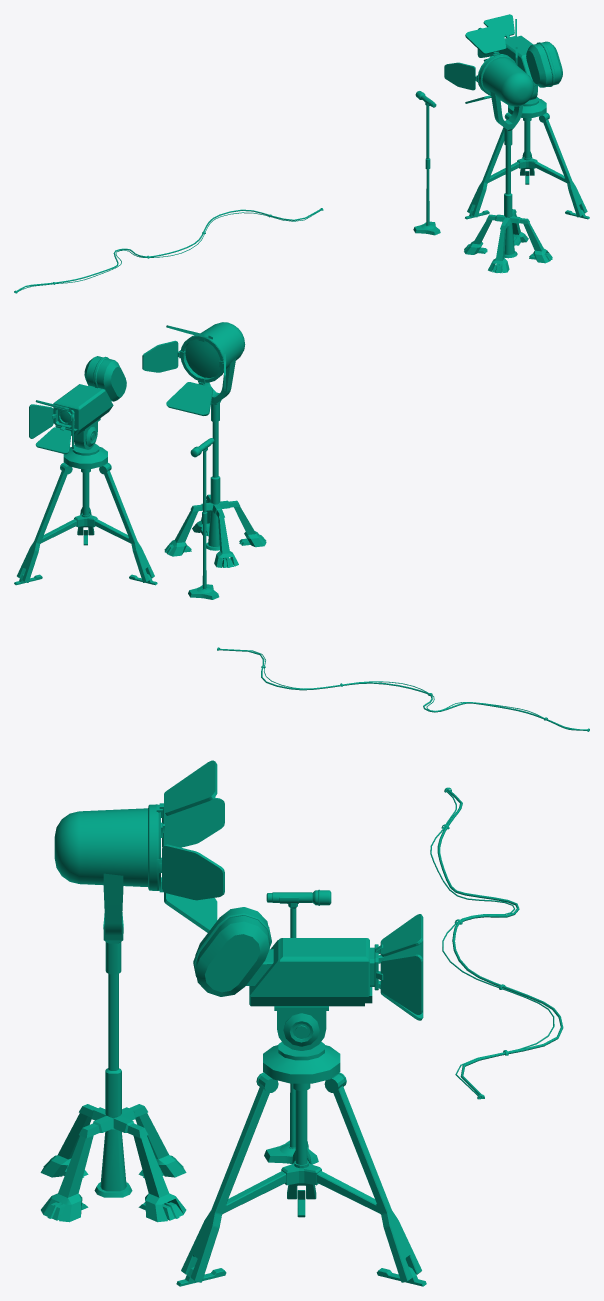
The model's file is Atlas1.fbx.
3 renders of one model, top to bottom at view 1: azimuth 30°, elevation 25°; view 2: azimuth 150°, elevation 25°; view 3: azimuth 270°, elevation 25°, orthographic. The views are drawn at different scales.
Visible parts, largest first — view 1: Aydinlatma, Kamera, Kablo, Mikrofon; view 2: Kamera, Aydinlatma, Kablo, Mikrofon; view 3: Kamera, Aydinlatma, Kablo, Mikrofon.
Boxes of the visible parts, <box> form: Aydinlatma: <box>444,24,552,273</box>; Kamera: <box>465,14,589,219</box>; Kablo: <box>14,208,323,293</box>; Mikrofon: <box>413,91,440,235</box>; Kamera: <box>14,356,157,585</box>; Aydinlatma: <box>142,322,266,567</box>; Kablo: <box>217,647,589,731</box>; Mikrofon: <box>188,438,219,599</box>; Kamera: <box>176,907,426,1286</box>; Aydinlatma: <box>40,760,224,1222</box>; Kablo: <box>430,787,563,1099</box>; Mikrofon: <box>264,889,331,1164</box>.
Bounding box in the file's own units: 513 × 199 × 228.
